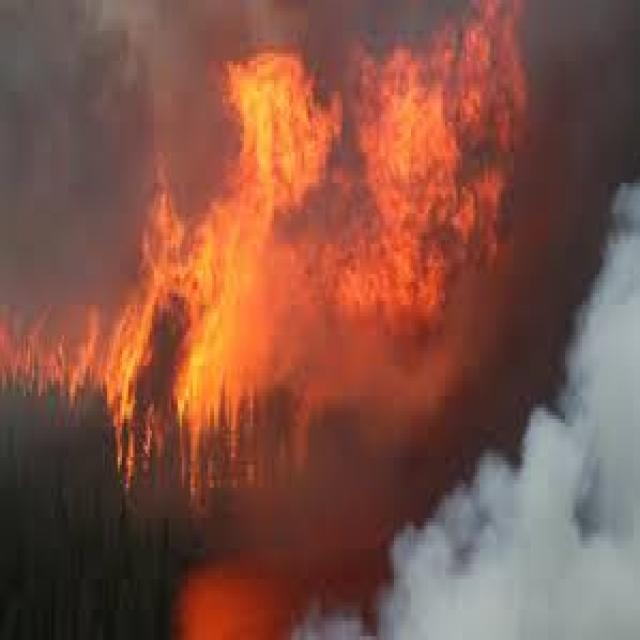Fire: (182, 0, 525, 461), (0, 190, 182, 430)
Smoke: (503, 183, 636, 640), (297, 449, 522, 640), (0, 1, 216, 196)
